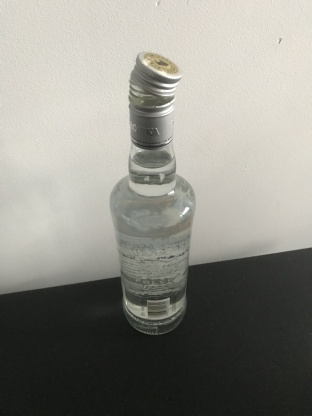nakretka: (126, 49, 183, 151)
